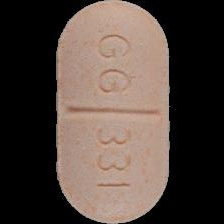35356-933: (0, 0, 224, 224)
